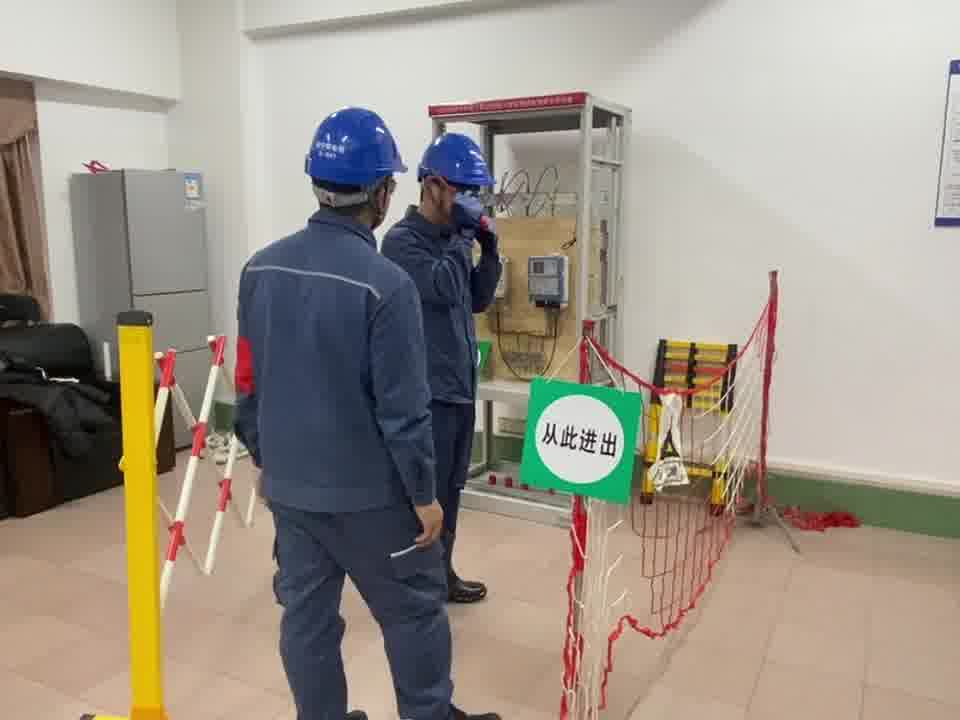badge: (234, 335, 258, 396)
downsuit: (264, 512, 459, 717)
glove: (451, 187, 501, 248)
halt: (305, 106, 404, 215), (414, 131, 494, 224)
hand: (413, 497, 448, 542)
inear: (361, 176, 395, 230)
intosign: (515, 370, 645, 508)
person: (229, 102, 474, 720), (387, 129, 508, 604)
upsuit: (234, 220, 423, 501), (388, 213, 499, 403)
